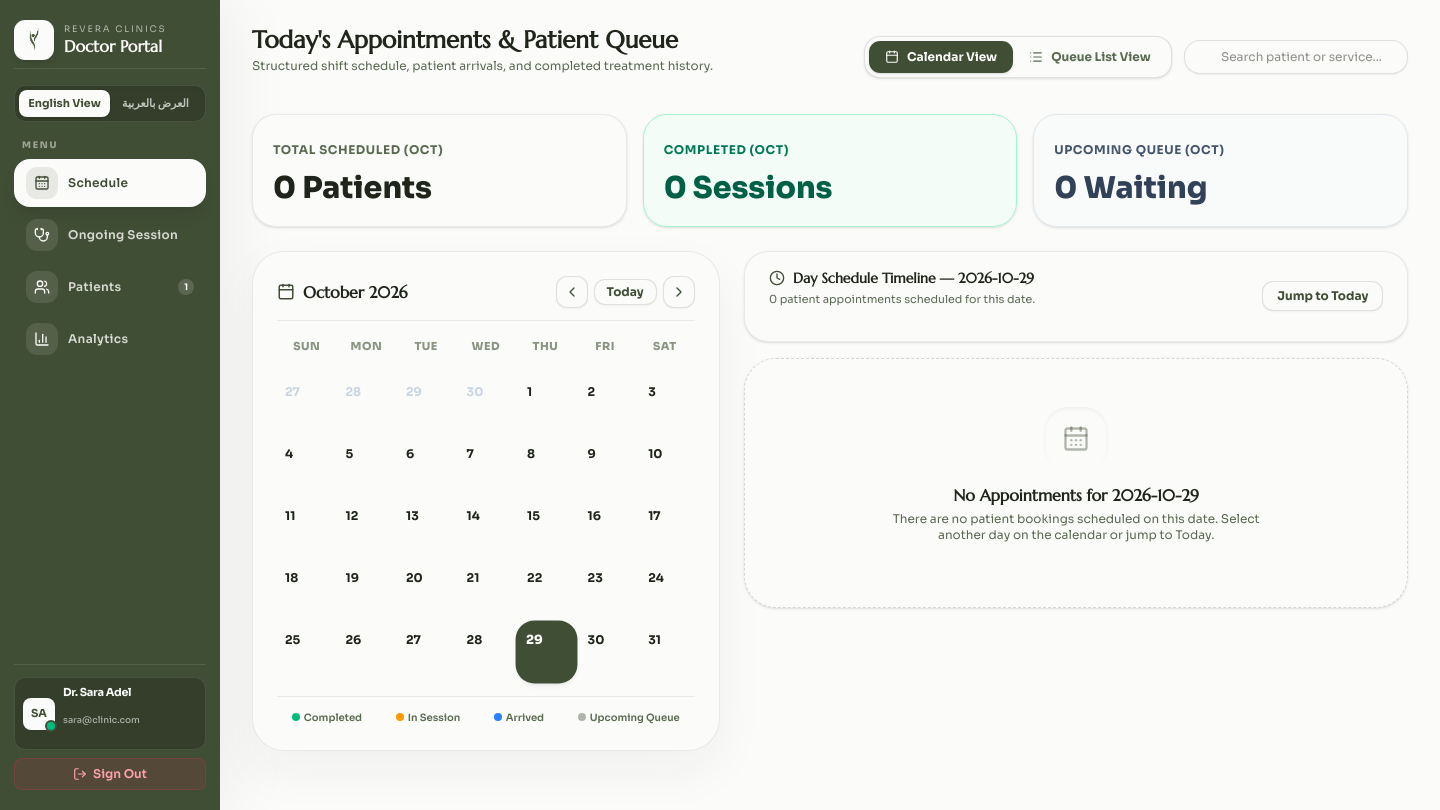
provider record comes from the profile API (RISK-128) › still works when the profile request fails: no provider record, matching falls back to the name
This screenshot has width=1440, height=810.
Click the button titled "Patients" at (110, 287), box [14, 263, 206, 311]
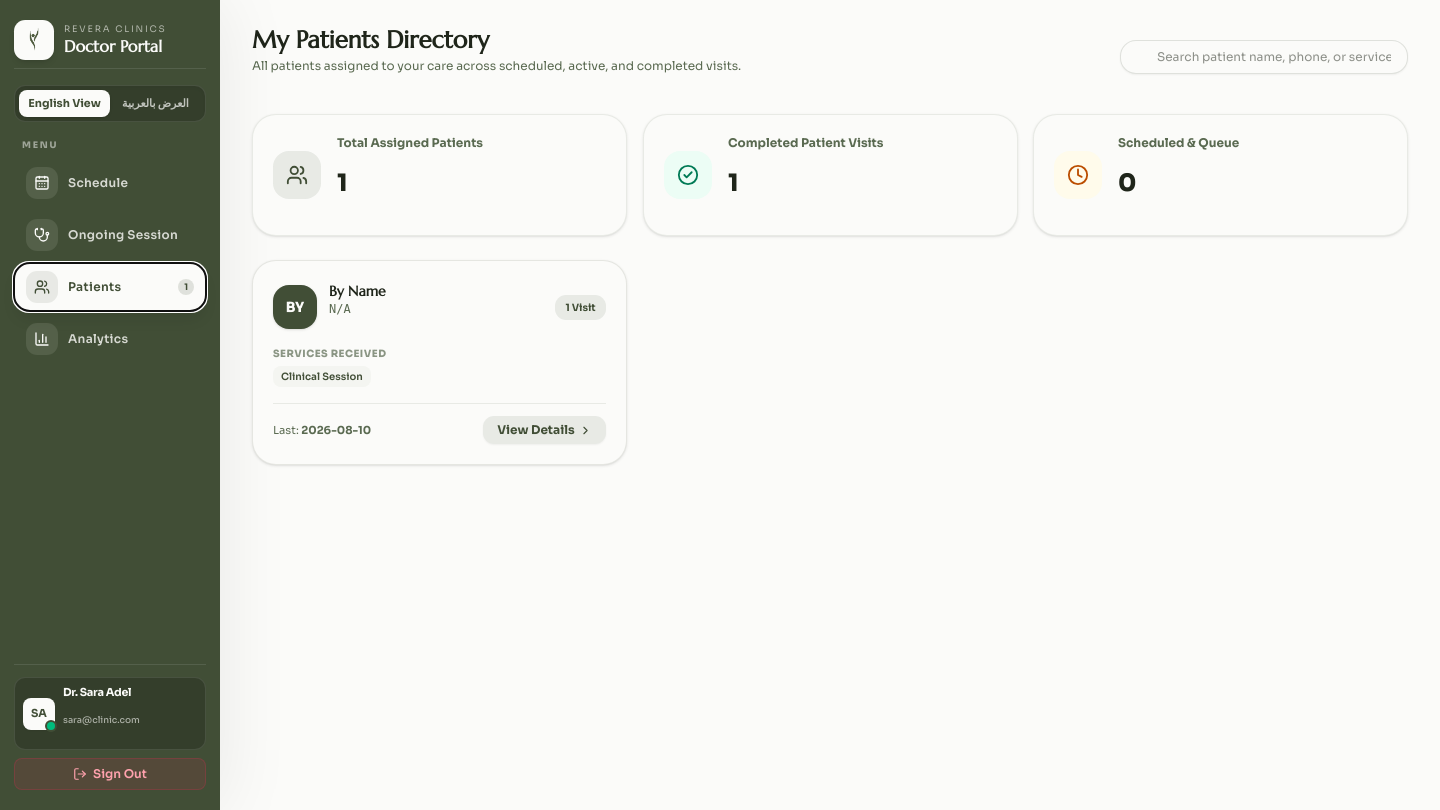
Expected: the heading "By Name" is shown, [329, 281, 386, 301]
